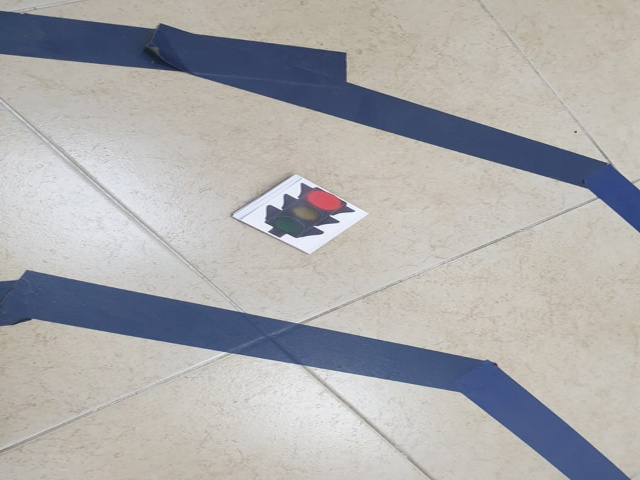Red: (261, 179, 359, 250)
